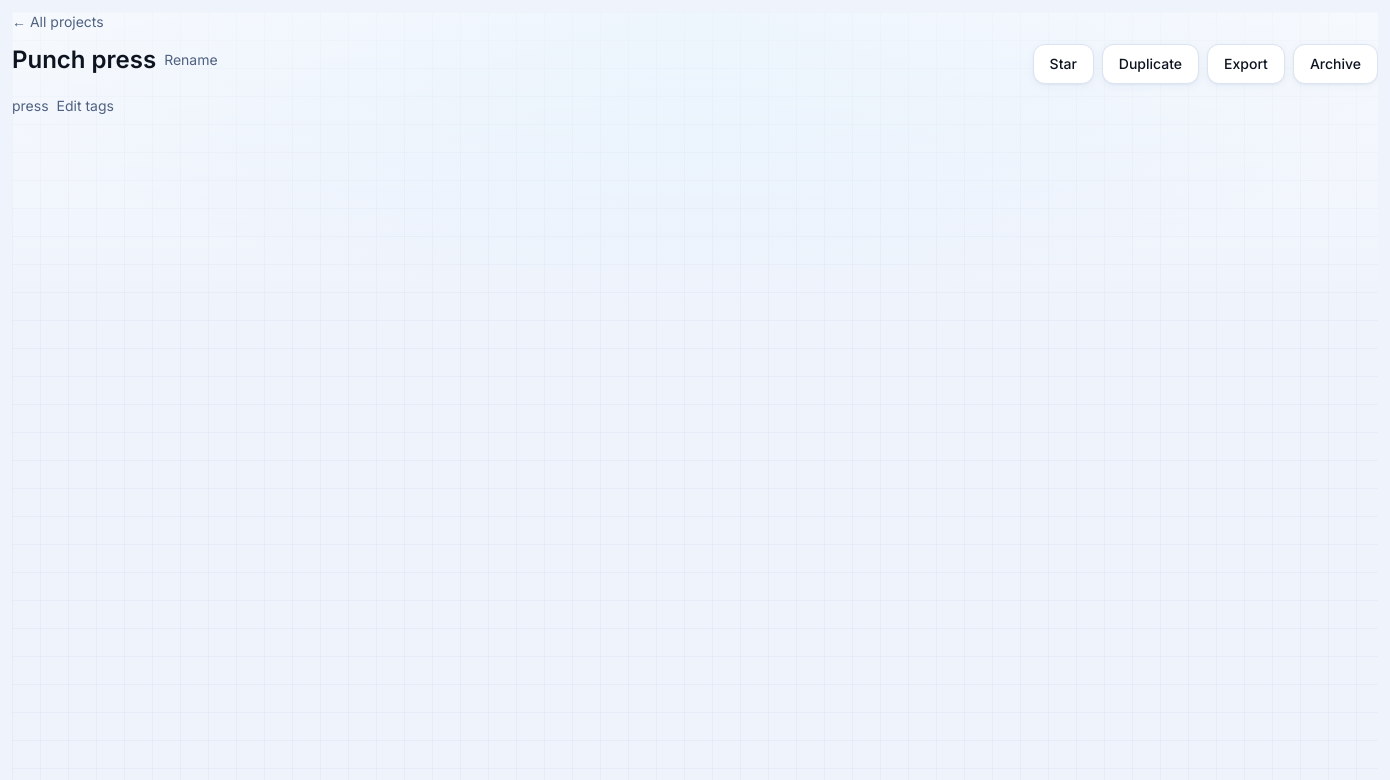
ProjectHeader › archives with a sentence saying nothing was deleted
Click the button "Archive" at (1335, 64), box [1293,44,1378,84]
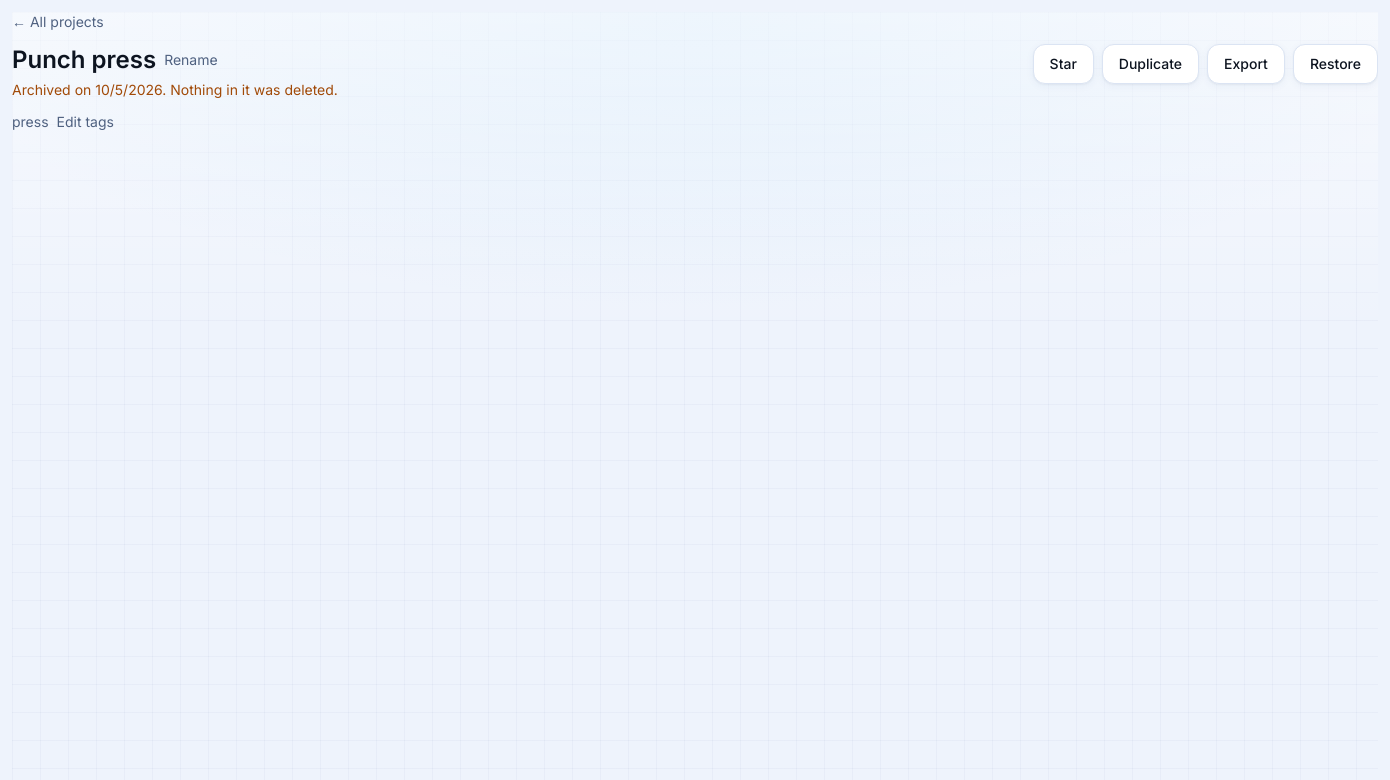
Now the text "Archived on 10/5/2026. Nothing in it was deleted." is shown, box [12,81,338,98]
Now the button "Restore" is shown, box [1293,44,1378,84]
